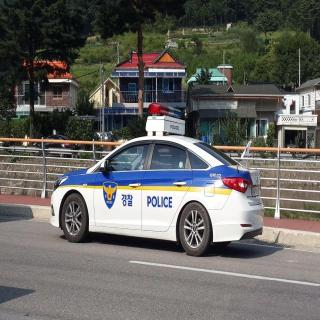Police_car: (50, 104, 266, 254)
